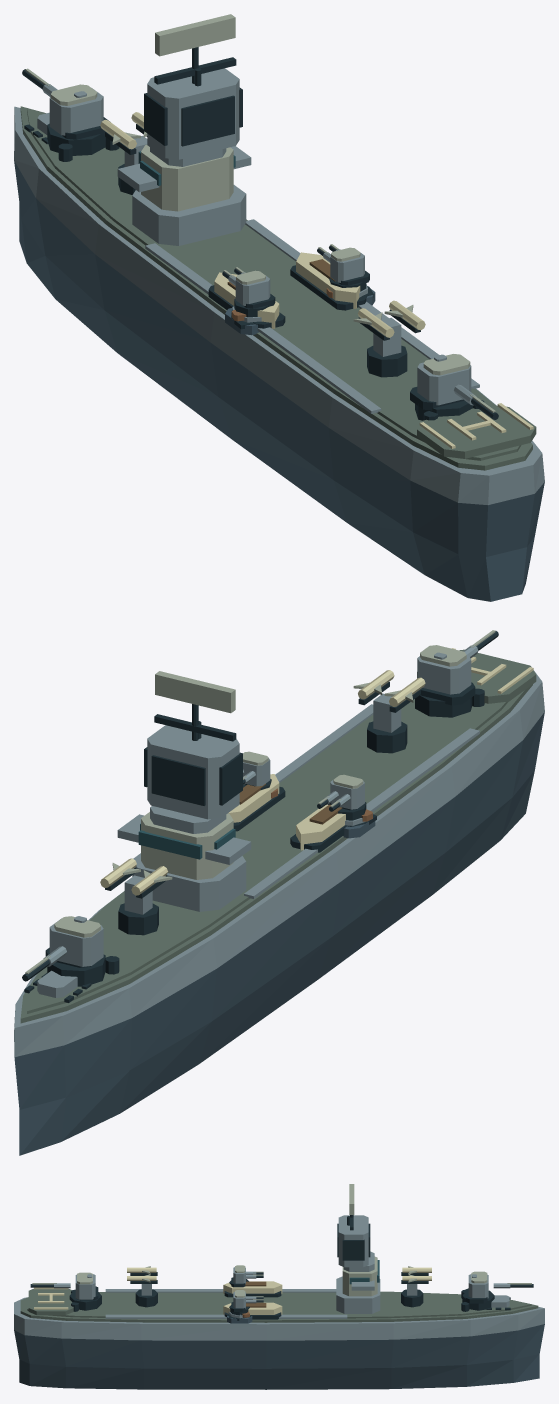
File: historic-virginia.glb
3 views of the same model, one above another, from view 1: azimuth 30°, elevation 25°; view 2: azimuth 150°, elevation 25°; view 3: azimuth 270°, elevation 25° (orthographic). The views are drawn at different scales.
Parts seen in each view (by area): view 1: historic-virginia-historic-virginia-geometry, historic-virginia-part_bridge.116-geometry, historic-virginia-turret_main_0.085-geometry, historic-virginia-turret_main_1.078-geometry, historic-virginia-naval_launcher_1.006-geometry, historic-virginia-turret_aa_aa-port.118-geometry, historic-virginia-turret_aa_aa-starboard.114-geometry, historic-virginia-naval_launcher_0.010-geometry; view 2: historic-virginia-historic-virginia-geometry, historic-virginia-part_bridge.116-geometry, historic-virginia-turret_main_1.078-geometry, historic-virginia-turret_main_0.085-geometry, historic-virginia-naval_launcher_1.006-geometry, historic-virginia-naval_launcher_0.010-geometry, historic-virginia-turret_aa_aa-port.118-geometry, historic-virginia-turret_aa_aa-starboard.114-geometry; view 3: historic-virginia-historic-virginia-geometry, historic-virginia-part_bridge.116-geometry, historic-virginia-turret_main_0.085-geometry, historic-virginia-turret_main_1.078-geometry, historic-virginia-naval_launcher_0.010-geometry, historic-virginia-naval_launcher_1.006-geometry, historic-virginia-turret_aa_aa-starboard.114-geometry, historic-virginia-turret_aa_aa-port.118-geometry.
Part boxes in pixels (<box>): historic-virginia-historic-virginia-geometry: <box>14,106,544,601</box>; historic-virginia-part_bridge.116-geometry: <box>117,14,251,245</box>; historic-virginia-turret_main_0.085-geometry: <box>22,68,109,155</box>; historic-virginia-turret_main_1.078-geometry: <box>410,354,498,420</box>; historic-virginia-naval_launcher_1.006-geometry: <box>353,300,425,377</box>; historic-virginia-turret_aa_aa-port.118-geometry: <box>222,267,275,317</box>; historic-virginia-turret_aa_aa-starboard.114-geometry: <box>317,244,369,291</box>; historic-virginia-naval_launcher_0.010-geometry: <box>100,112,147,195</box>; historic-virginia-historic-virginia-geometry: <box>14,648,544,1155</box>; historic-virginia-part_bridge.116-geometry: <box>117,671,251,911</box>; historic-virginia-turret_main_1.078-geometry: <box>415,630,498,717</box>; historic-virginia-turret_main_0.085-geometry: <box>22,916,105,986</box>; historic-virginia-naval_launcher_1.006-geometry: <box>353,670,425,753</box>; historic-virginia-naval_launcher_0.010-geometry: <box>100,858,172,935</box>; historic-virginia-turret_aa_aa-port.118-geometry: <box>317,774,366,820</box>; historic-virginia-turret_aa_aa-starboard.114-geometry: <box>243,751,271,790</box>; historic-virginia-historic-virginia-geometry: <box>14,1281,544,1389</box>; historic-virginia-part_bridge.116-geometry: <box>336,1184,380,1313</box>; historic-virginia-turret_main_0.085-geometry: <box>462,1271,533,1310</box>; historic-virginia-turret_main_1.078-geometry: <box>30,1272,101,1310</box>; historic-virginia-naval_launcher_0.010-geometry: <box>401,1266,431,1307</box>; historic-virginia-naval_launcher_1.006-geometry: <box>127,1266,157,1307</box>; historic-virginia-turret_aa_aa-starboard.114-geometry: <box>229,1290,263,1315</box>; historic-virginia-turret_aa_aa-port.118-geometry: <box>229,1265,263,1287</box>.
Size of the model in its own units: 0.6879 by 1.65 by 4.32.
